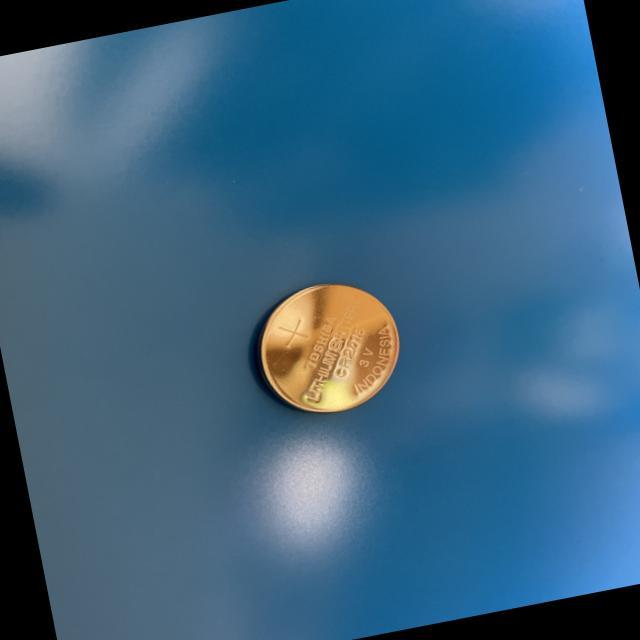COIN: (242, 270, 412, 426)
